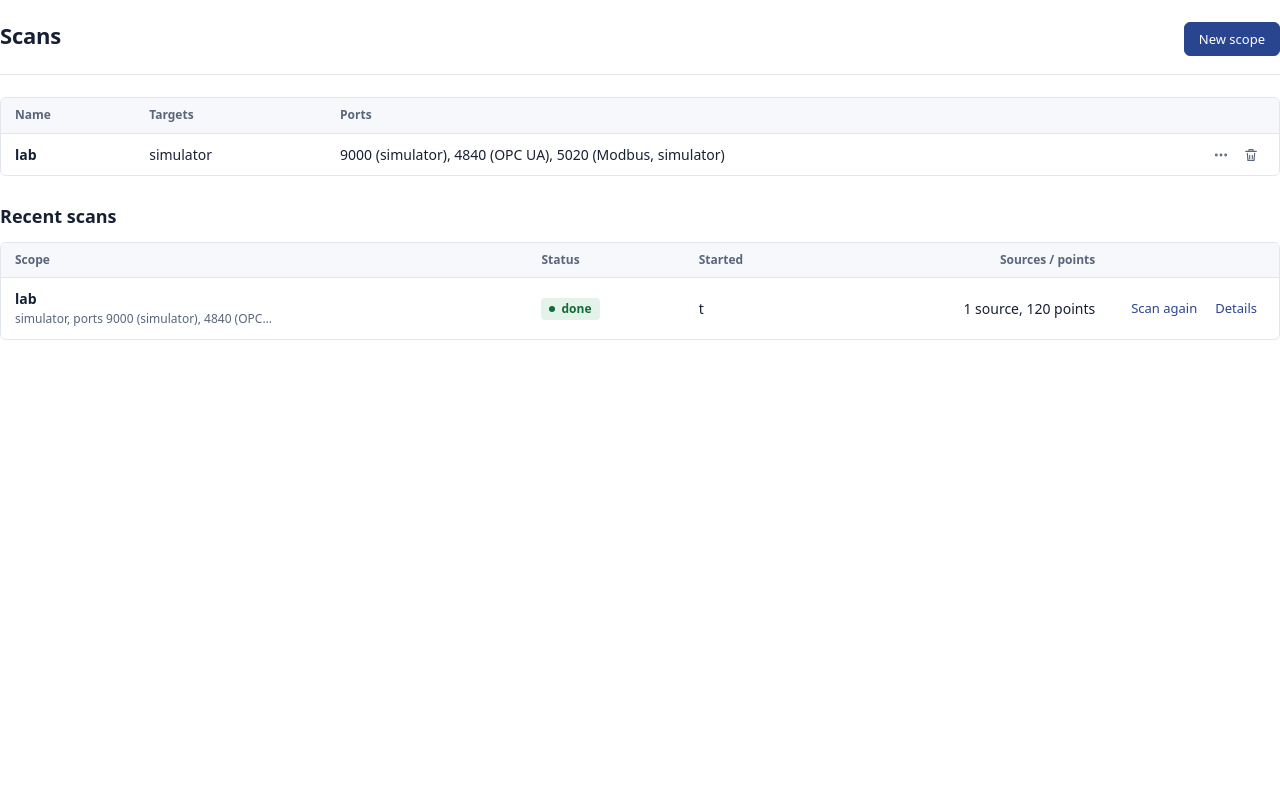
ScansPage › edits a scope with a PATCH and deletes it after confirmation in the styled dialog
Click the button named "Actions for lab": (1221, 155) x1=1207 y1=141 x2=1235 y2=169
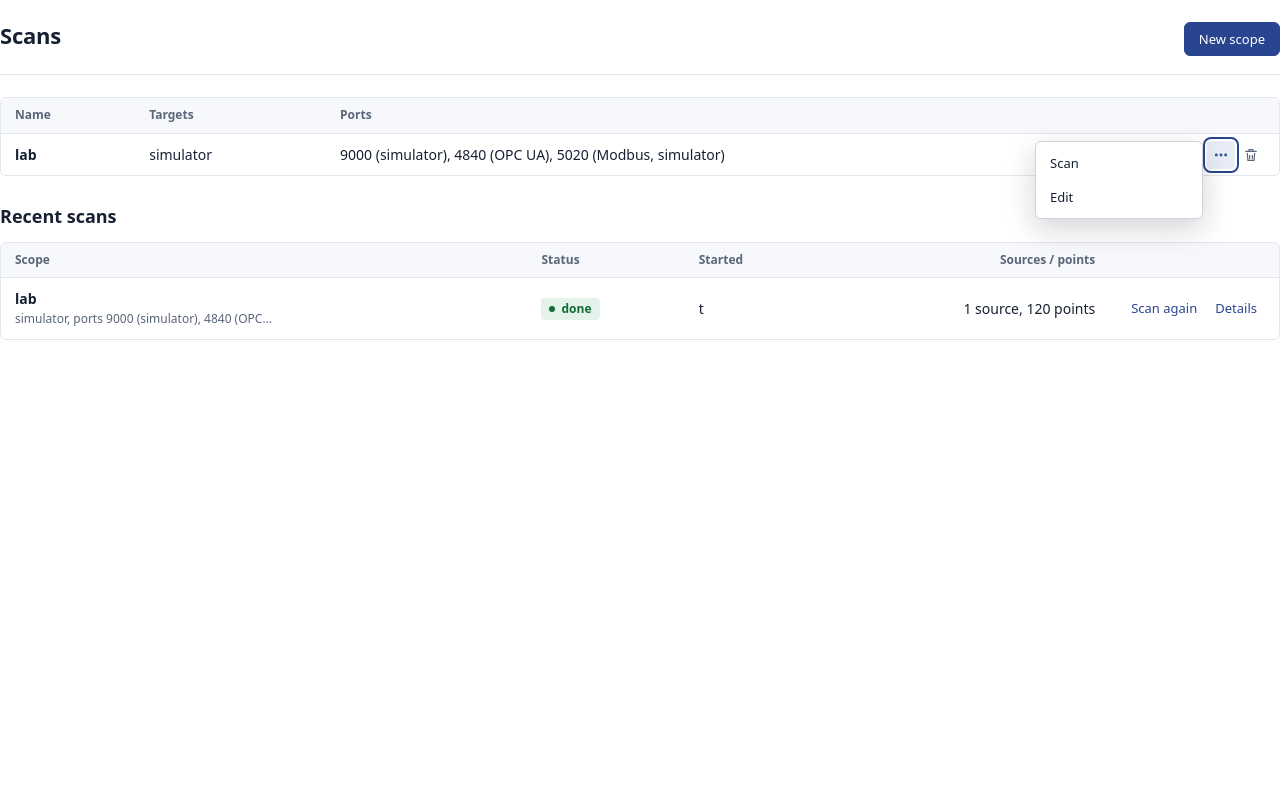
Click the menu item "Edit": (1119, 197) x1=1040 y1=180 x2=1198 y2=214
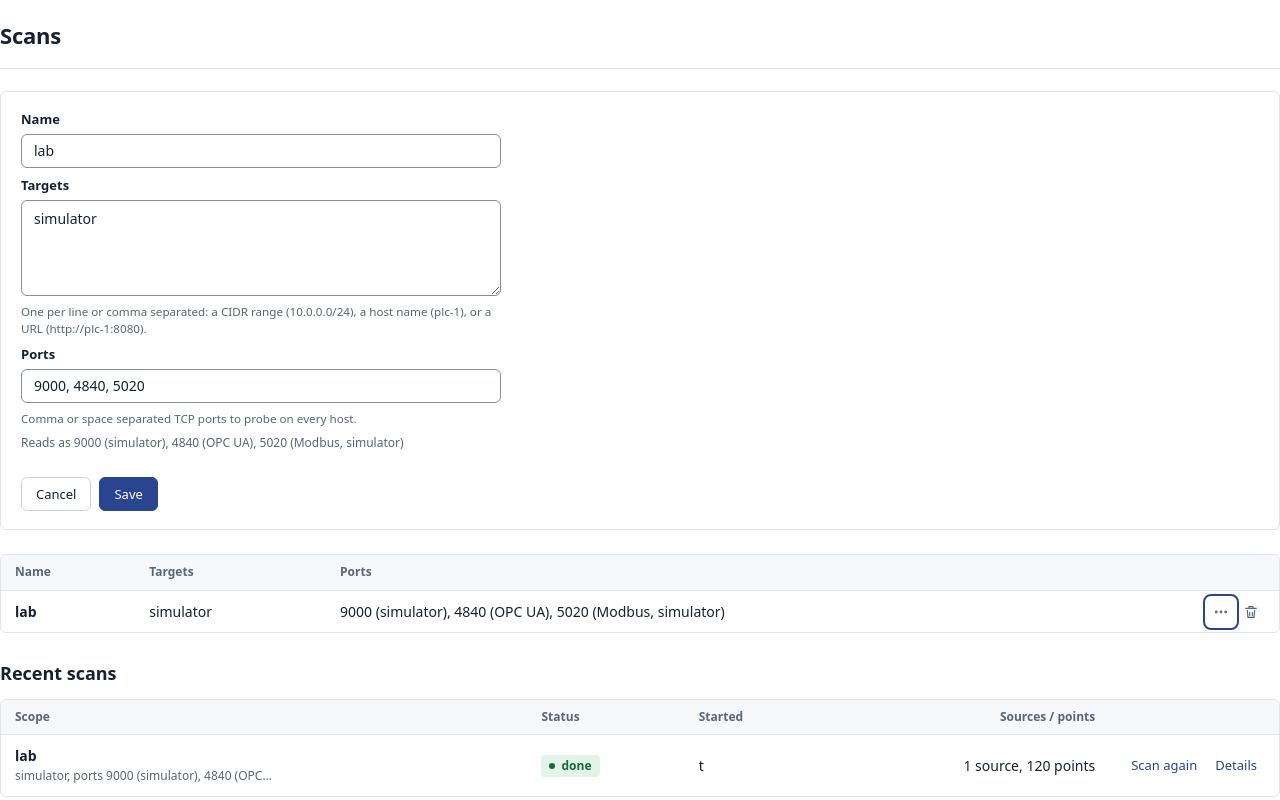
Check: the field labelled "Name" holds "lab", box x1=21 y1=134 x2=501 y2=168
Check: the text box labelled "Targets" holds "simulator", box x1=21 y1=200 x2=501 y2=296
Check: the field labelled "Ports" holds "9000, 4840, 5020"
Replace the text in the field labelled "Ports" with "4840": (261, 386) x1=21 y1=369 x2=501 y2=403
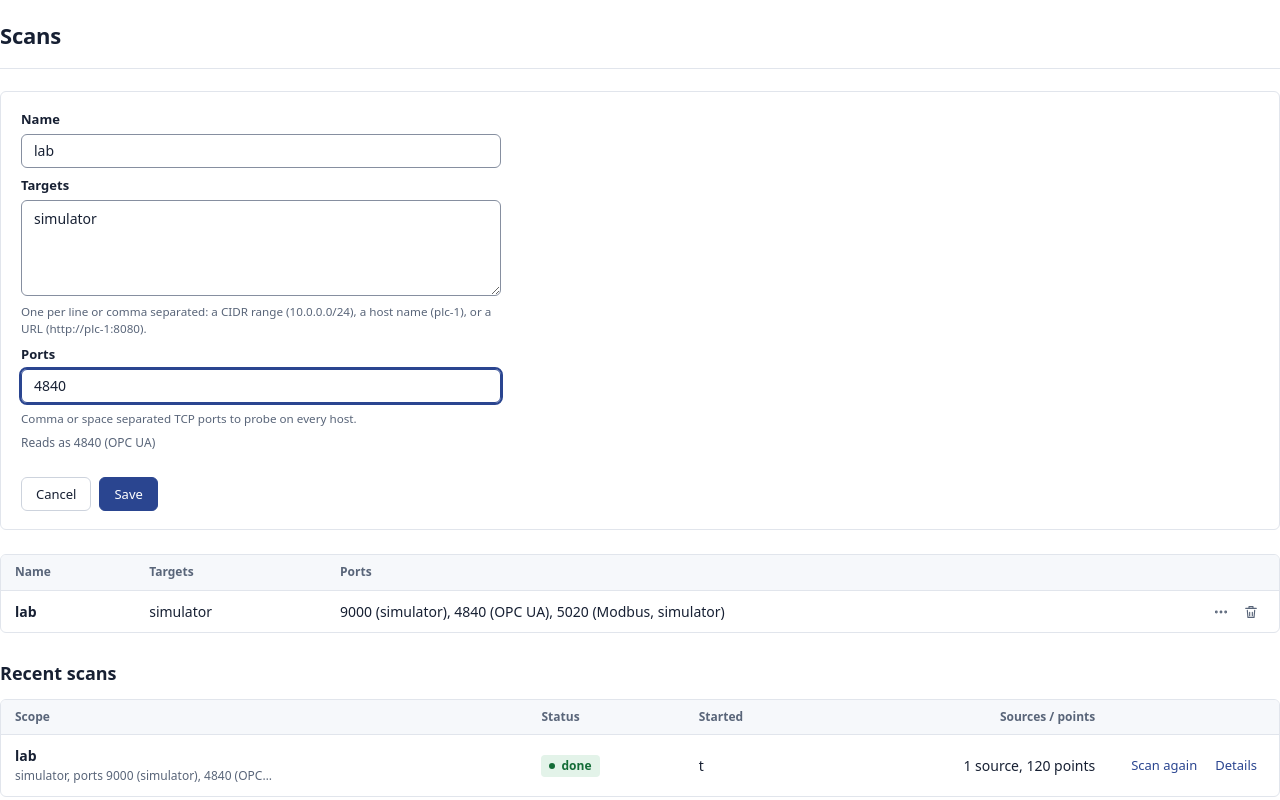
Click the button "Save": (129, 494) x1=100 y1=477 x2=158 y2=511
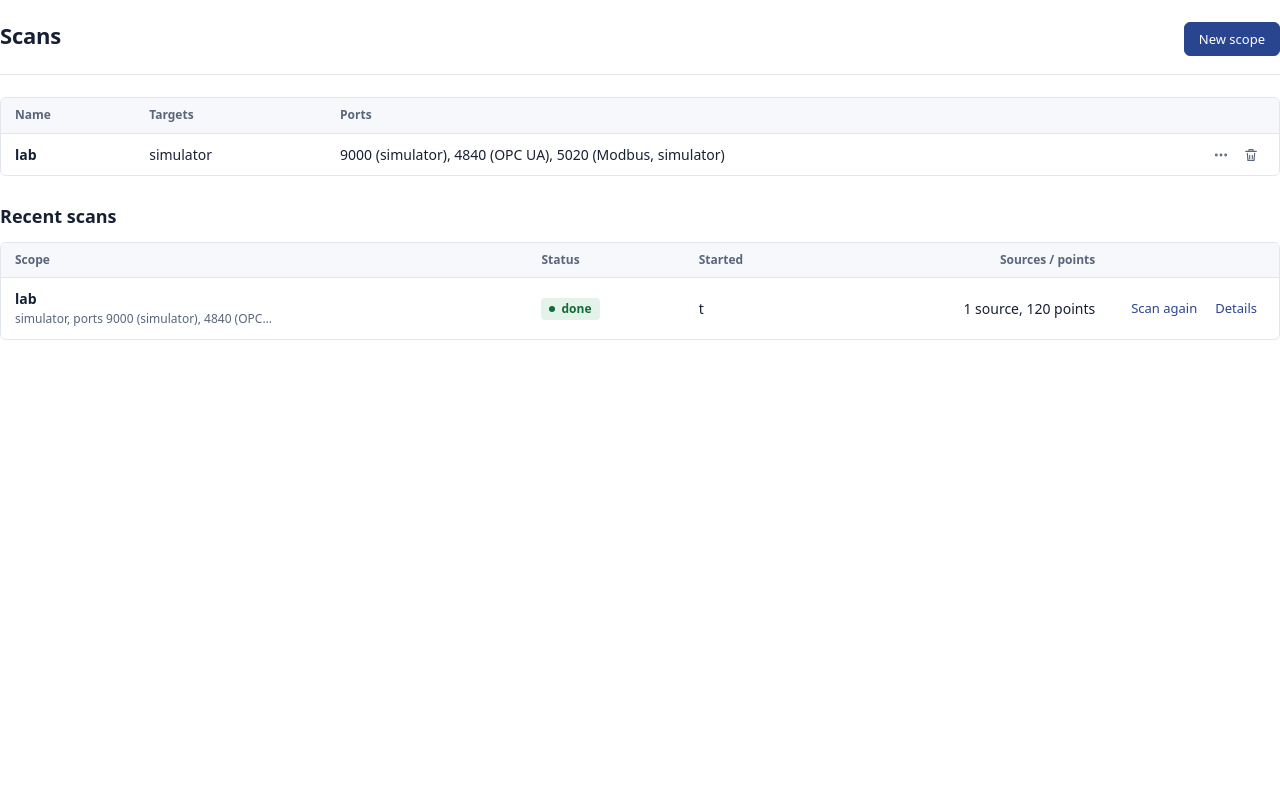
Check: the button "Save" is gone
Click the button named "Delete lab": (1251, 155) x1=1237 y1=141 x2=1265 y2=169
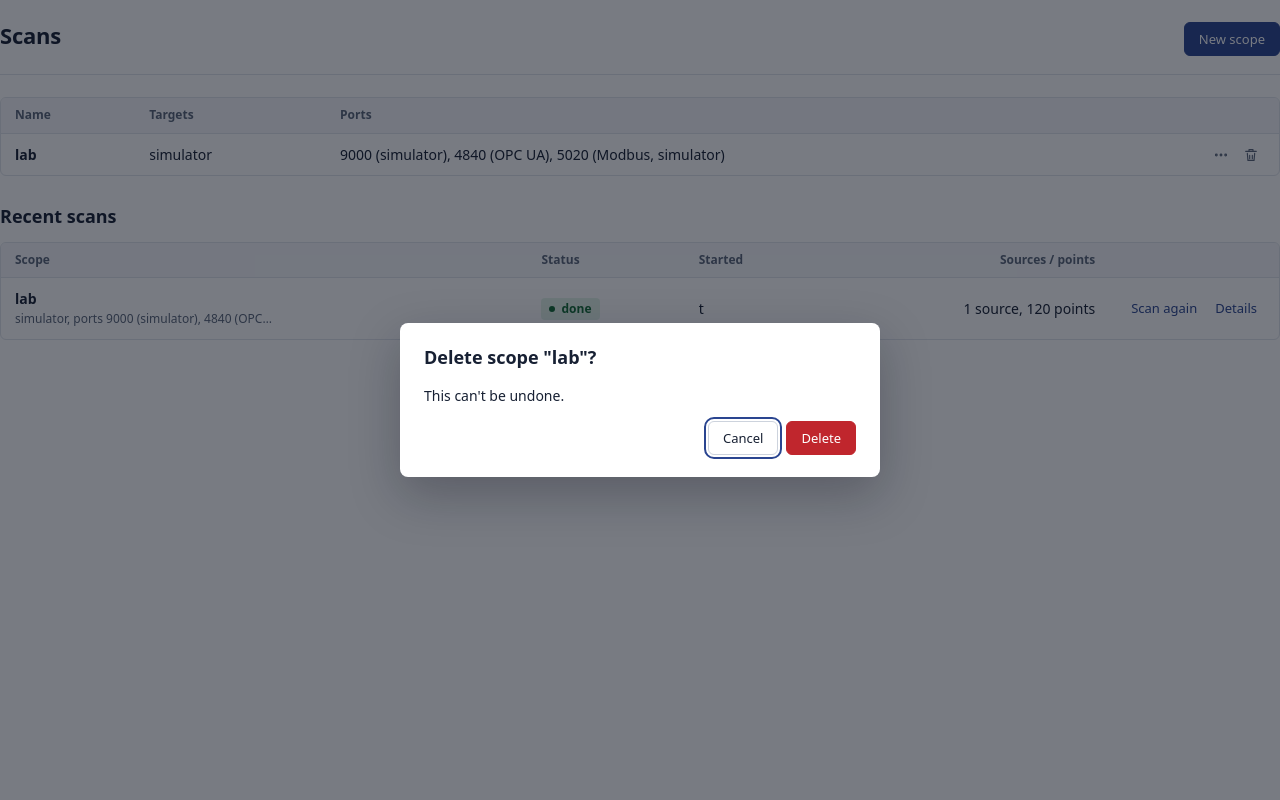
Click the button "Delete": (821, 438) x1=786 y1=421 x2=856 y2=455
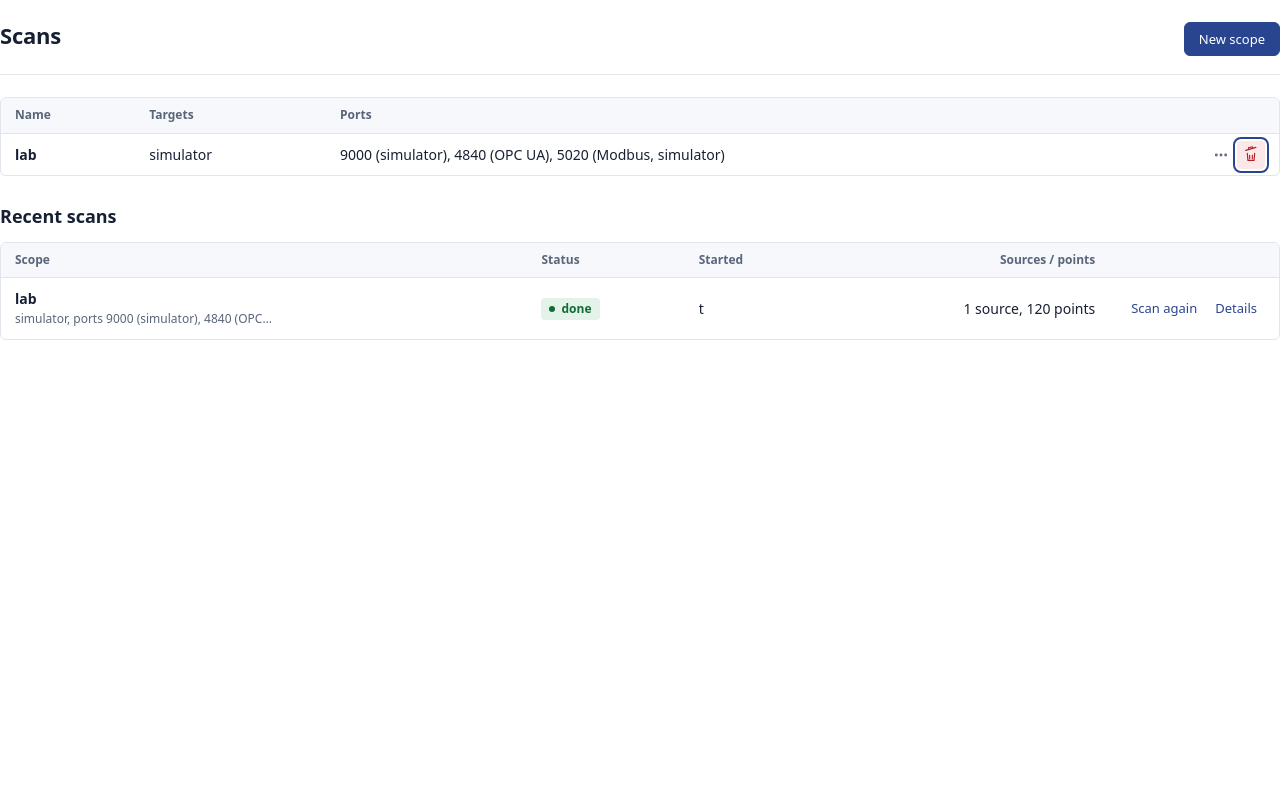
Check: the dialog is gone
